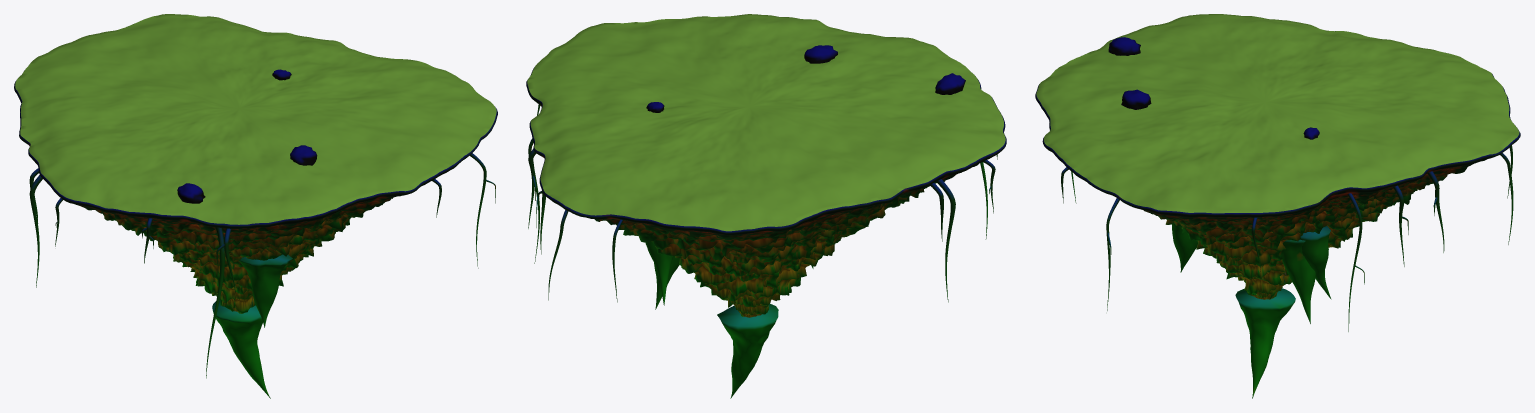
Rendered from SM_FloatingRock_C.glb.
3 views of the same model, side by side, from view 1: azimuth 30°, elevation 25°; view 2: azimuth 150°, elevation 25°; view 3: azimuth 270°, elevation 25° (orthographic). The views are drawn at different scales.
Visible parts, largest first — view 1: SM_FloatingRock_C; view 2: SM_FloatingRock_C; view 3: SM_FloatingRock_C.
Boxes of the visible parts, bbox=[...] form: SM_FloatingRock_C: bbox=[14, 14, 497, 398]; SM_FloatingRock_C: bbox=[526, 14, 1006, 398]; SM_FloatingRock_C: bbox=[1035, 14, 1520, 398].
Bounding box in the file's own units: 43.55 × 29.78 × 44.54.
